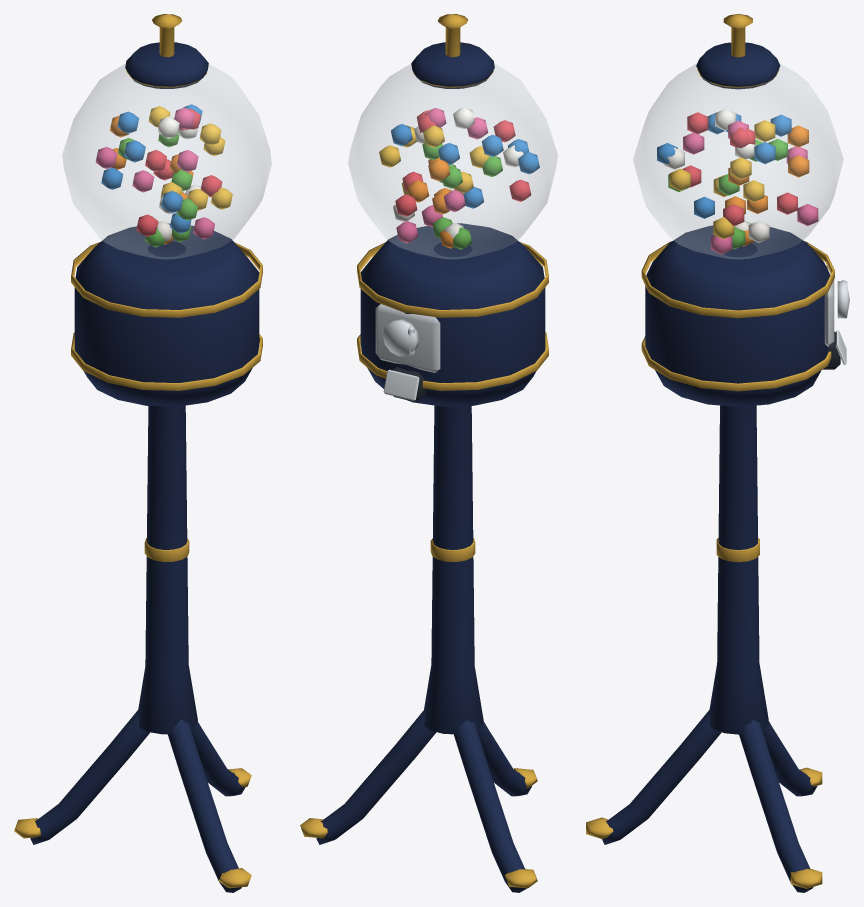
Rendered from gumball_T1.fbx.
3 renders of one model, left to right at view 1: azimuth 30°, elevation 25°; view 2: azimuth 150°, elevation 25°; view 3: azimuth 270°, elevation 25°, orthographic.
Parts seen in each view (by area): view 1: Body; view 2: Body; view 3: Body.
Part boxes in pixels (x1=…): Body: x1=14, y1=14, x2=271, y2=892; Body: x1=300, y1=14, x2=557, y2=892; Body: x1=586, y1=14, x2=849, y2=892.
Bounding box in the file's own units: 0.4347 × 1.48 × 0.4255.
